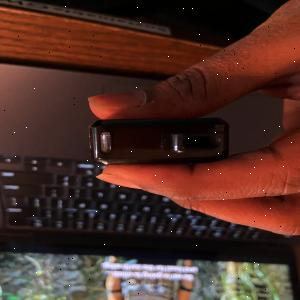Swift-E-Ciggirate: (87, 116, 234, 166)
